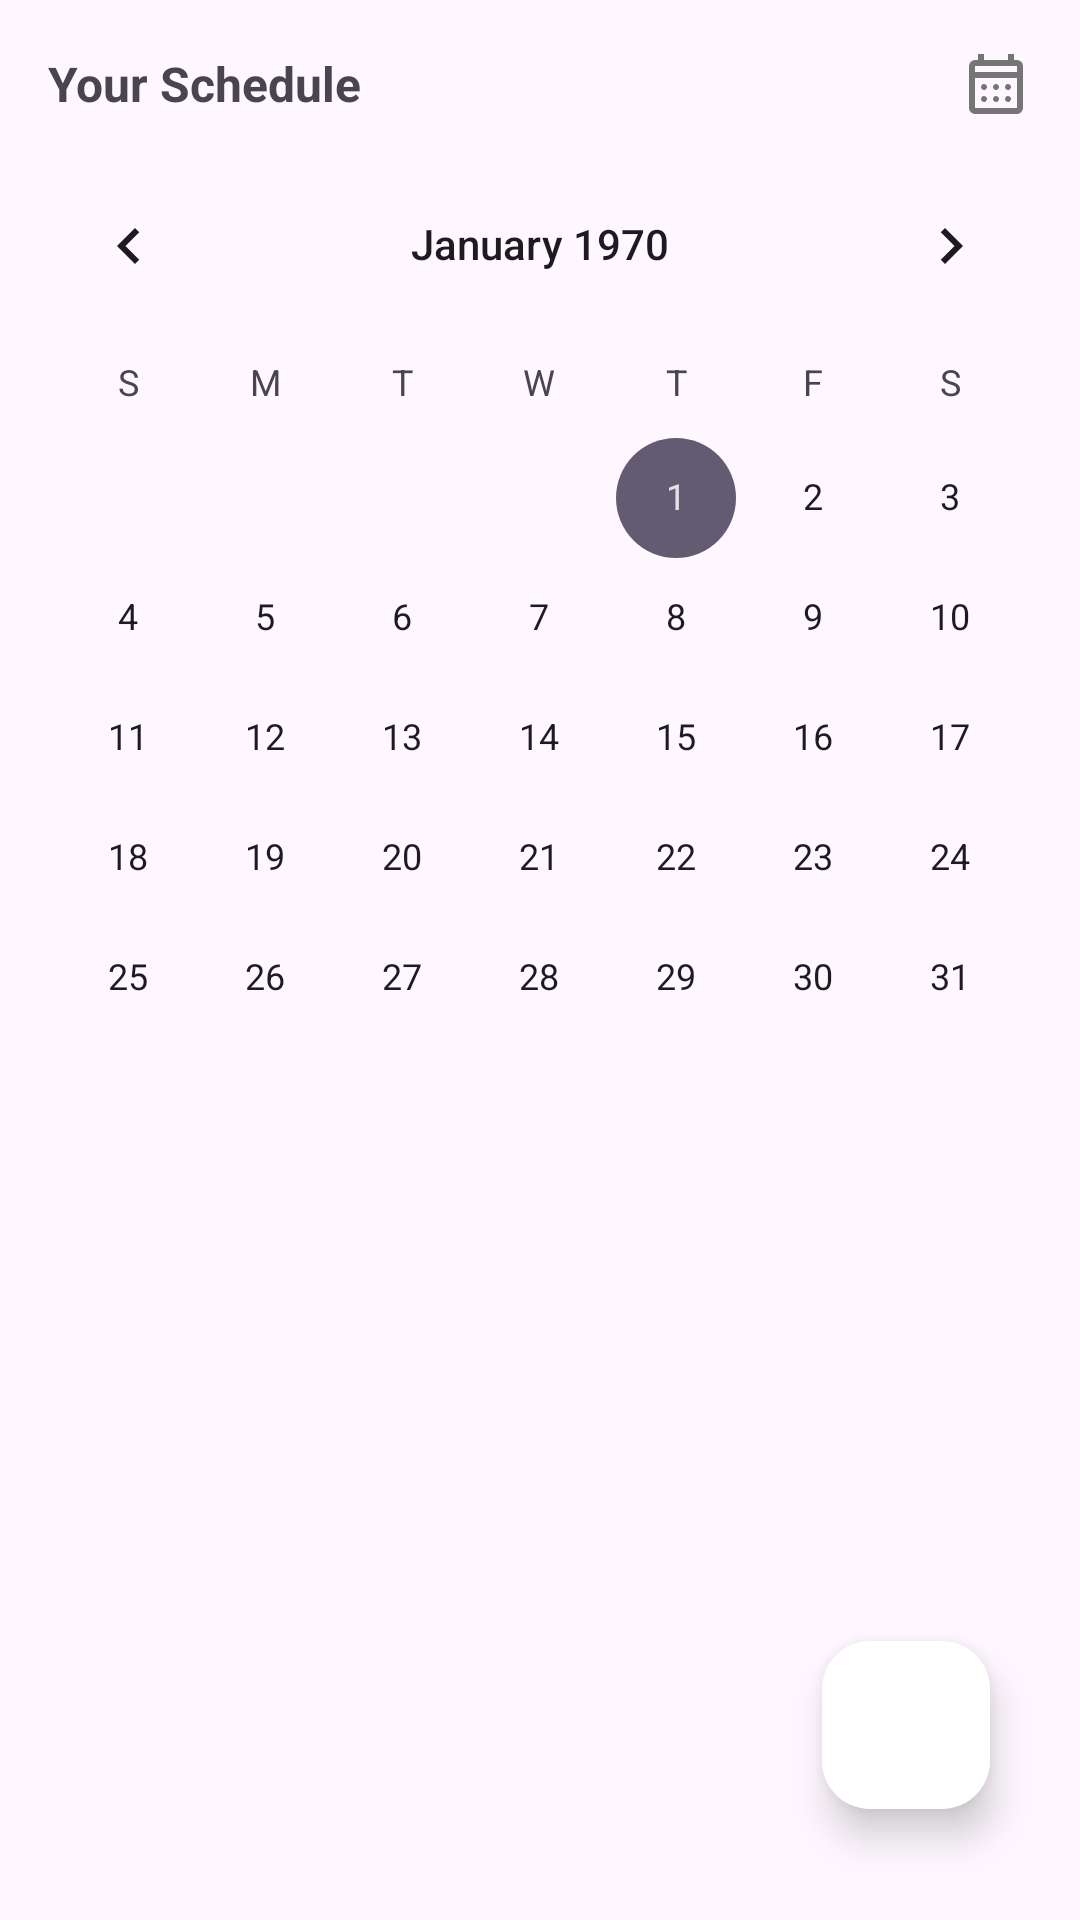

Named icons in this screenshot (1080×1920) and their bounding boxes, (x1, y1, x2, y2):
Toggle Calendar: (969, 54, 1023, 114)
